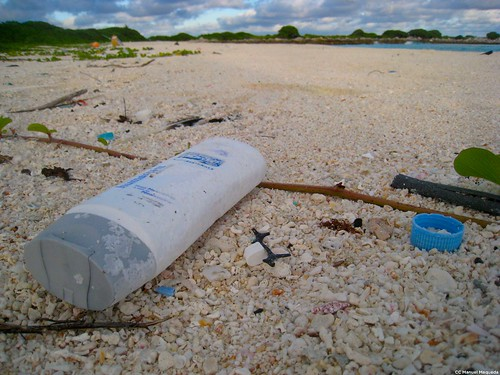beach: (1, 54, 494, 375)
sky: (13, 1, 500, 28)
trash: (1, 130, 500, 346)
